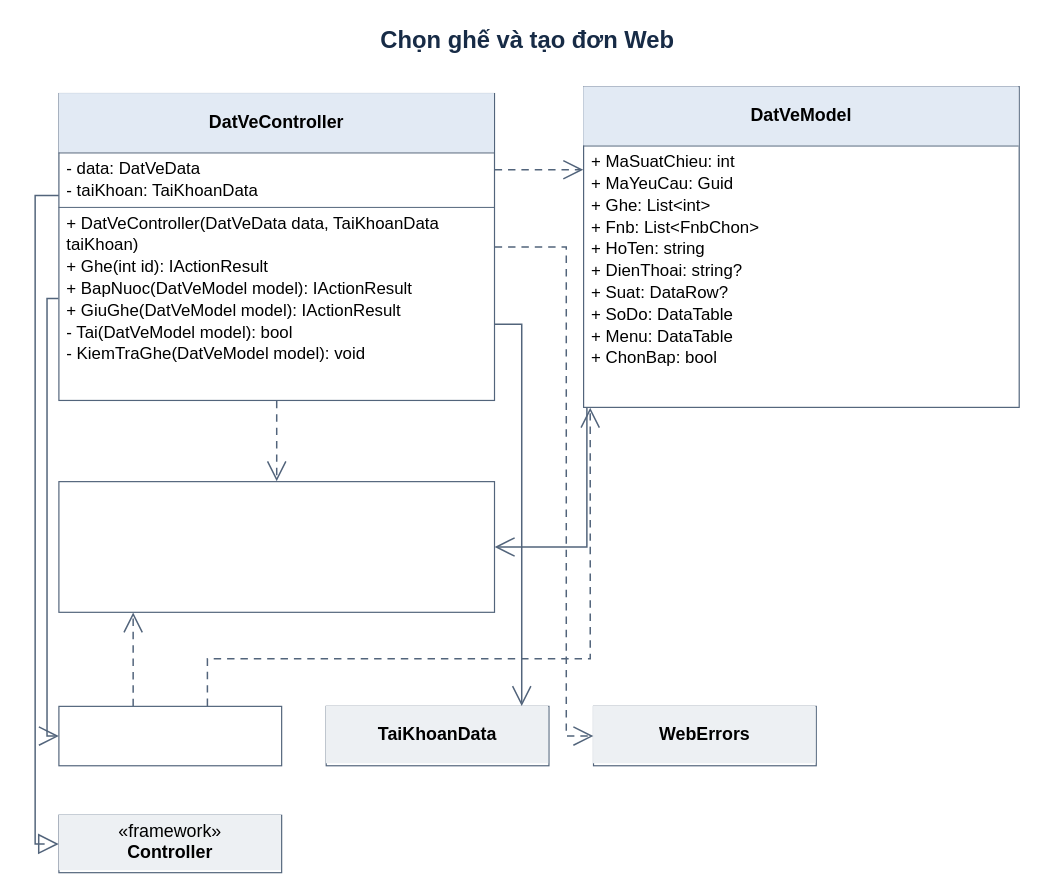
The diagram is 1041 pixels wide and 890 high, and some of its shapes have lost their labels. Each missing label, with the box of its shape:
DatVeData: (58, 705, 282, 766)
FnbChon + MaSanPham: int + SoLuong: int: (58, 481, 495, 612)
